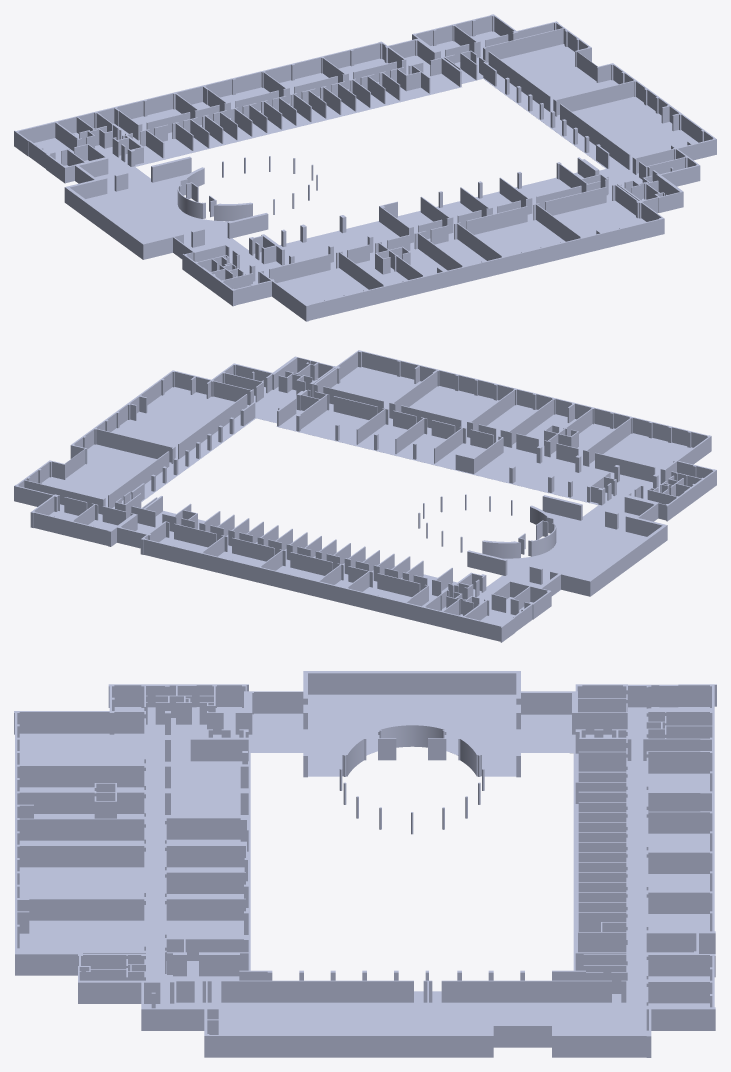
File: fit2.FBX
The picture shows the model from 3 angles, top to bottom: view 1: azimuth 30°, elevation 25°; view 2: azimuth 150°, elevation 25°; view 3: azimuth 270°, elevation 25°; orthographic projection. The views are drawn at different scales.
Visible parts, largest first — view 1: 凸台-拉伸6[1], 凸台-拉伸8, 凸台-拉伸6[33], 凸台-拉伸6[31], 凸台-拉伸6[5], 凸台-拉伸6[8], 凸台-拉伸6[75], 凸台-拉伸6[25], 凸台-拉伸6[15], 凸台-拉伸6[62], 凸台-拉伸6[63], 凸台-拉伸6[16] (+7 smaller); view 2: 凸台-拉伸6[1], 凸台-拉伸8, 凸台-拉伸6[33], 凸台-拉伸6[15], 凸台-拉伸6[75], 凸台-拉伸6[31], 凸台-拉伸6[38], 凸台-拉伸6[16], 凸台-拉伸6[62], 凸台-拉伸6[4], 凸台-拉伸6[73], 凸台-拉伸6[70] (+13 smaller); view 3: 凸台-拉伸8, 凸台-拉伸6[1], 凸台-拉伸6[33], 凸台-拉伸6[31], 凸台-拉伸6[38], 凸台-拉伸6[27], 凸台-拉伸6[2], 凸台-拉伸6[15], 凸台-拉伸6[29], 凸台-拉伸6[63], 凸台-拉伸6[25], 凸台-拉伸6[66] (+8 smaller).
Part boxes in pixels (<box>): 凸台-拉伸6[1]: <box>14,14,716,321</box>; 凸台-拉伸8: <box>34,31,698,304</box>; 凸台-拉伸6[33]: <box>560,103,630,169</box>; 凸台-拉伸6[31]: <box>488,51,550,111</box>; 凸台-拉伸6[5]: <box>545,187,606,215</box>; 凸台-拉伸6[8]: <box>466,206,527,234</box>; 凸台-拉伸6[75]: <box>269,254,330,282</box>; 凸台-拉伸6[25]: <box>390,62,430,93</box>; 凸台-拉伸6[15]: <box>556,162,608,194</box>; 凸台-拉伸6[62]: <box>227,213,268,238</box>; 凸台-拉伸6[63]: <box>249,234,284,265</box>; 凸台-拉伸6[16]: <box>151,156,191,182</box>; 凸台-拉伸6[1]: <box>14,350,716,642</box>; 凸台-拉伸8: <box>41,367,692,625</box>; 凸台-拉伸6[33]: <box>178,394,247,459</box>; 凸台-拉伸6[15]: <box>296,390,329,431</box>; 凸台-拉伸6[75]: <box>595,452,655,482</box>; 凸台-拉伸6[31]: <box>108,451,169,507</box>; 凸台-拉伸6[38]: <box>455,436,503,473</box>; 凸台-拉伸6[16]: <box>467,550,507,575</box>; 凸台-拉伸6[62]: <box>542,495,582,520</box>; 凸台-拉伸6[4]: <box>333,396,377,419</box>; 凸台-拉伸6[73]: <box>377,573,420,596</box>; 凸台-拉伸6[70]: <box>290,552,332,575</box>; 凸台-拉伸8: <box>17,694,715,1057</box>; 凸台-拉伸6[1]: <box>14,671,716,1057</box>; 凸台-拉伸6[33]: <box>221,980,413,1002</box>; 凸台-拉伸6[31]: <box>441,980,611,1002</box>; 凸台-拉伸6[38]: <box>165,817,248,851</box>; 凸台-拉伸6[27]: <box>165,843,245,867</box>; 凸台-拉伸6[2]: <box>165,897,245,920</box>; 凸台-拉伸6[15]: <box>165,938,248,976</box>; 凸台-拉伸6[29]: <box>165,870,245,893</box>; 凸台-拉伸6[63]: <box>190,729,248,761</box>; 凸台-拉伸6[25]: <box>578,917,627,952</box>; 凸台-拉伸6[66]: <box>199,952,248,976</box>.
Size of the model in its own units: 4310 by 119 by 3505.
